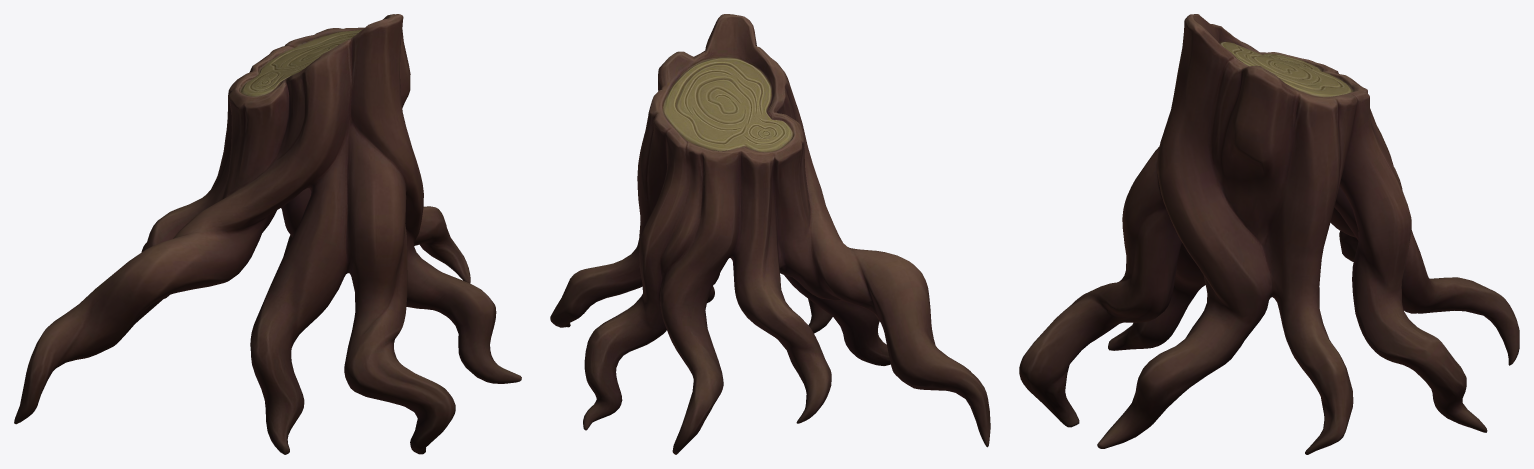
Rendered from bog_tree_trunk_b.glb.
3 views of the same model, side by side, from view 1: azimuth 30°, elevation 25°; view 2: azimuth 150°, elevation 25°; view 3: azimuth 270°, elevation 25° (orthographic). The views are drawn at different scales.
Parts seen in each view (by area): view 1: SM_XBOG_STS_TreeTrunk_01B; view 2: SM_XBOG_STS_TreeTrunk_01B; view 3: SM_XBOG_STS_TreeTrunk_01B.
Boxes of the visible parts, <box> form: SM_XBOG_STS_TreeTrunk_01B: <box>14,14,521,454</box>; SM_XBOG_STS_TreeTrunk_01B: <box>550,14,990,454</box>; SM_XBOG_STS_TreeTrunk_01B: <box>1019,14,1519,454</box>.
Bounding box in the file's own units: 12.54 × 9.99 × 10.77.
Materials: 1 (1 with a texture image).
